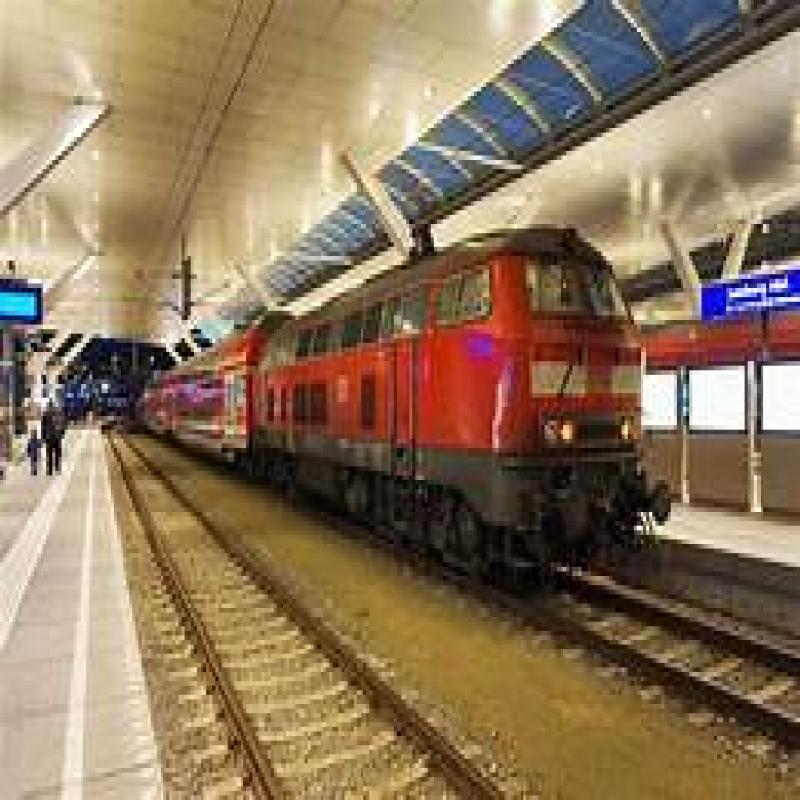train: (146, 294, 709, 582)
